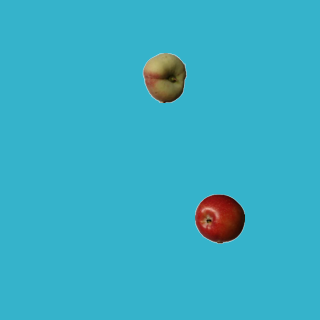Apple Braeburn: (194, 193, 244, 243)
Peach Flat: (139, 52, 189, 102)
